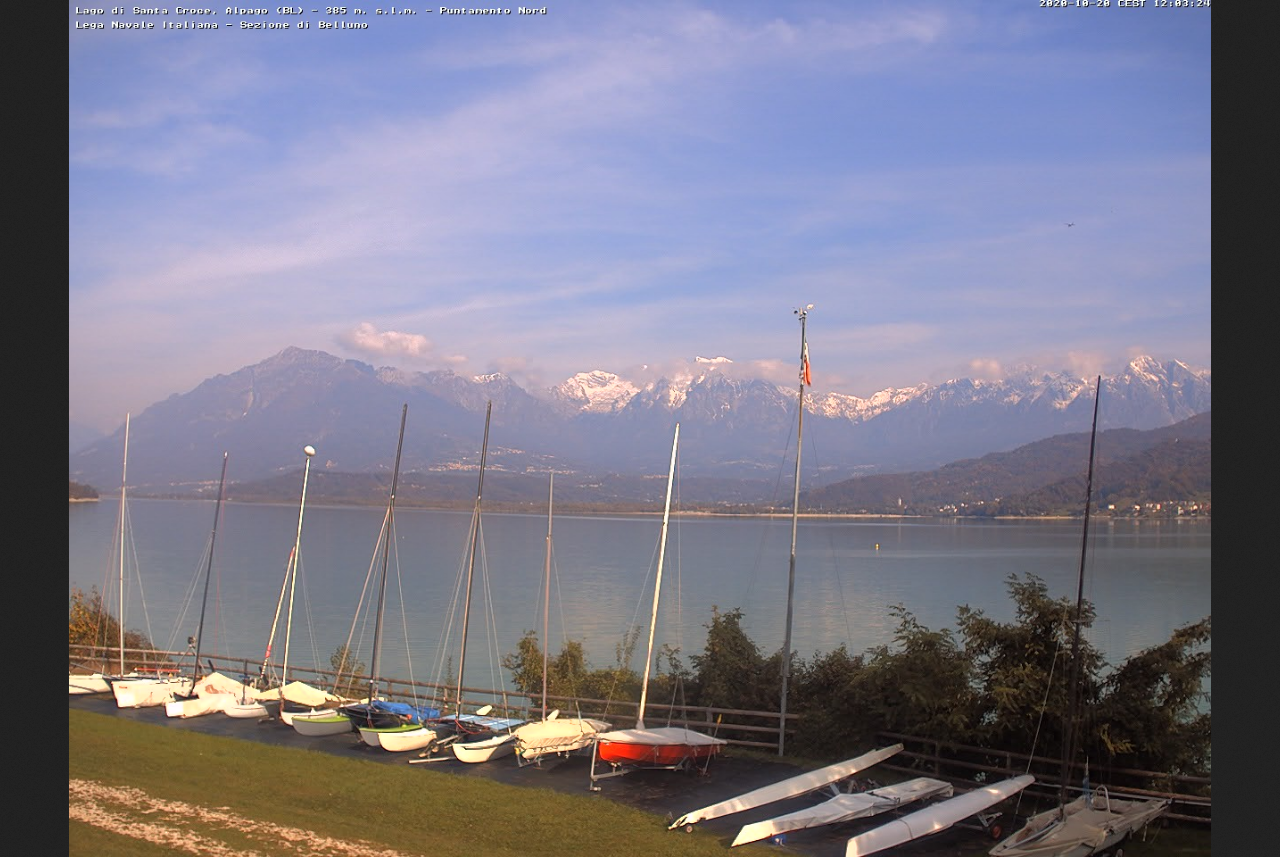no: (796, 321, 814, 390)
